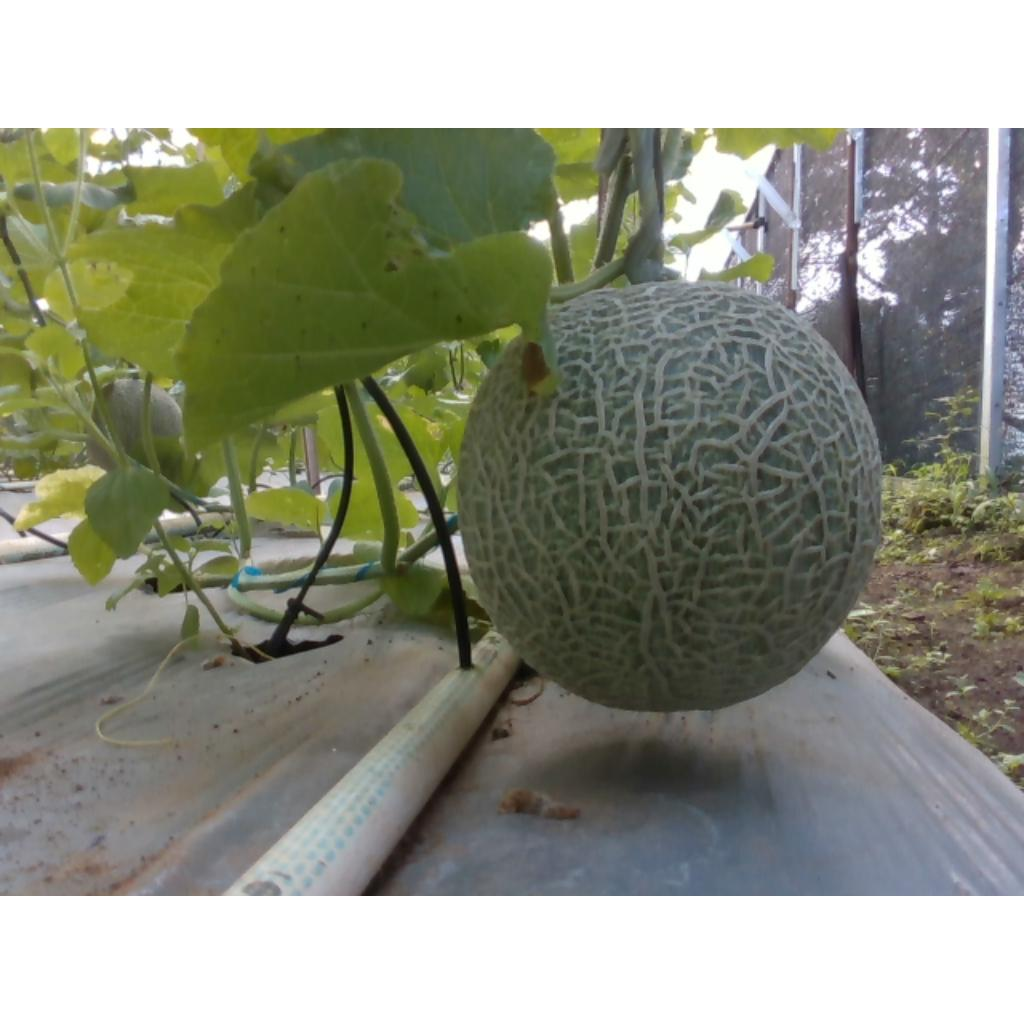melon: (461, 282, 883, 711)
